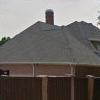Chimney: (37, 6, 65, 31)
